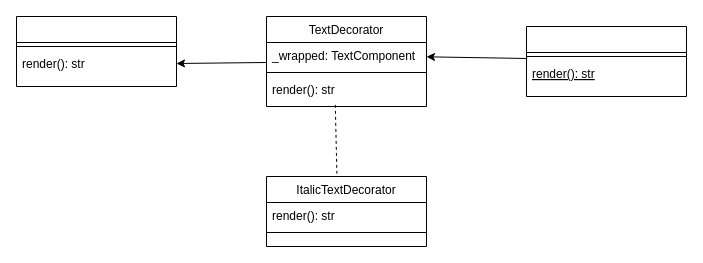
Some shapes in this 703 by 263 pixel diagram are drawn without their labels. The box of each missing label's shape, as (x1, y1, x2, y2) in pixels:
BoldTextDecorator: (526, 26, 686, 96)
TextComponent: (16, 16, 176, 86)
